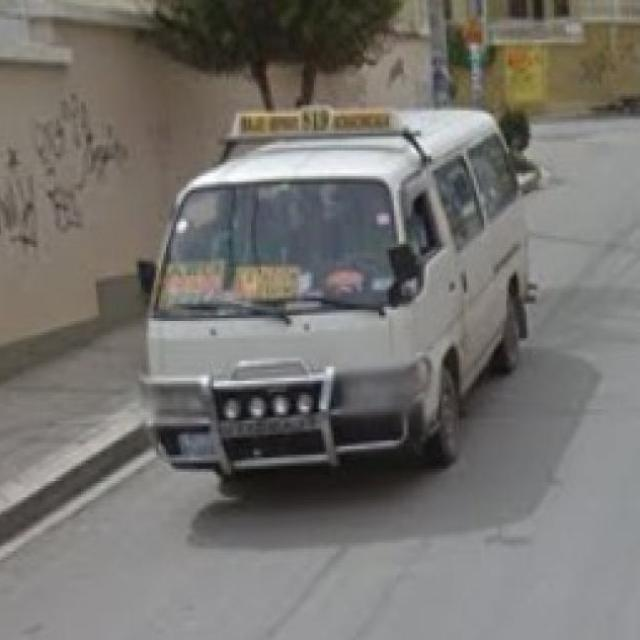car: (142, 115, 526, 479)
